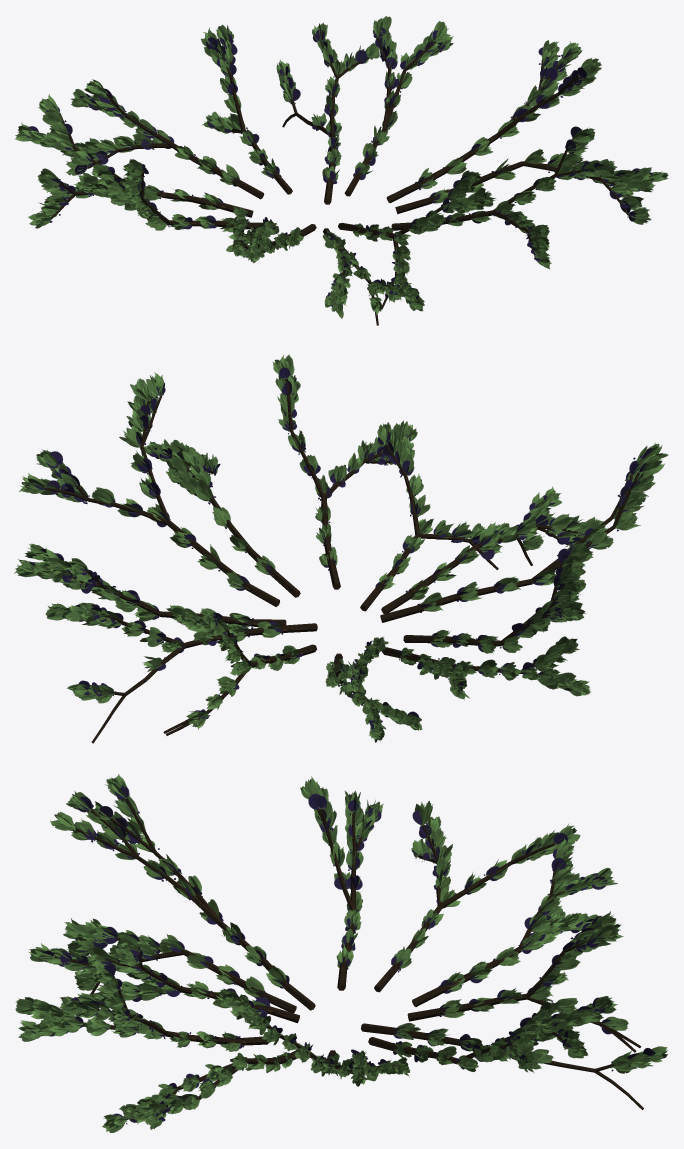
Rendered from bilberry_low_v01.glb.
3 renders of one model, top to bottom at view 1: azimuth 30°, elevation 25°; view 2: azimuth 150°, elevation 25°; view 3: azimuth 270°, elevation 25°, orthographic. The views are drawn at different scales.
Parts seen in each view (by area): view 1: bilberry_low_v01; view 2: bilberry_low_v01; view 3: bilberry_low_v01.
Boxes of the visible parts, box(x1,y1,x2,y2) form: bilberry_low_v01: box(15, 16, 668, 325); bilberry_low_v01: box(14, 354, 668, 743); bilberry_low_v01: box(15, 774, 668, 1132).
Bounding box in the file's own units: 0.8793 × 0.2708 × 0.8314.
2 materials, 2 textured.
